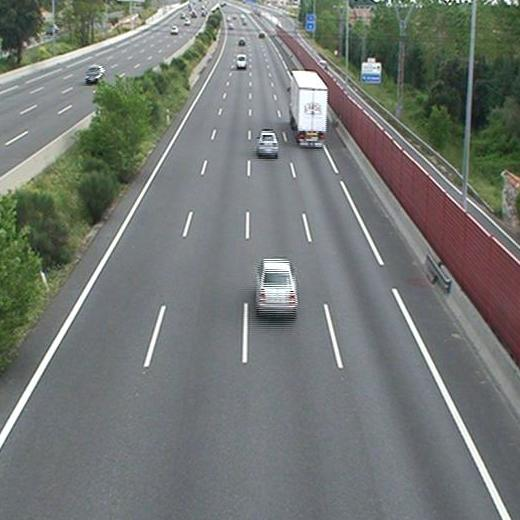car: (256, 257, 295, 310), (256, 132, 277, 155), (238, 37, 245, 47)
truck: (291, 69, 325, 145)
van: (237, 54, 247, 69)
